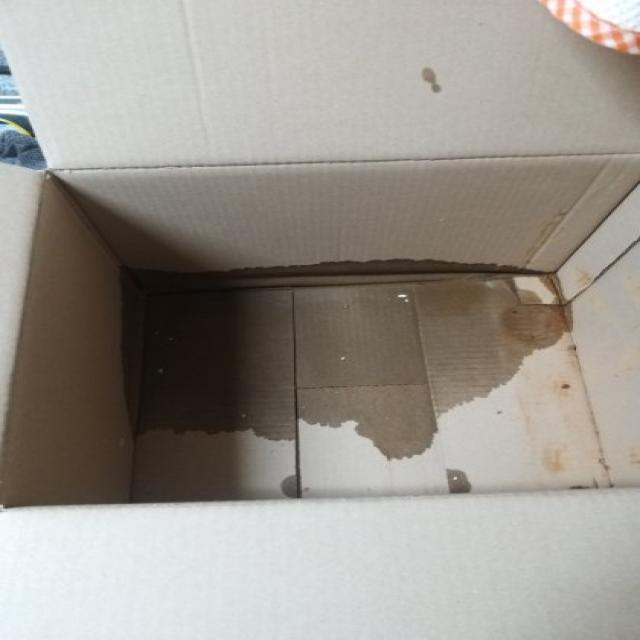wet: (113, 259, 589, 459)
